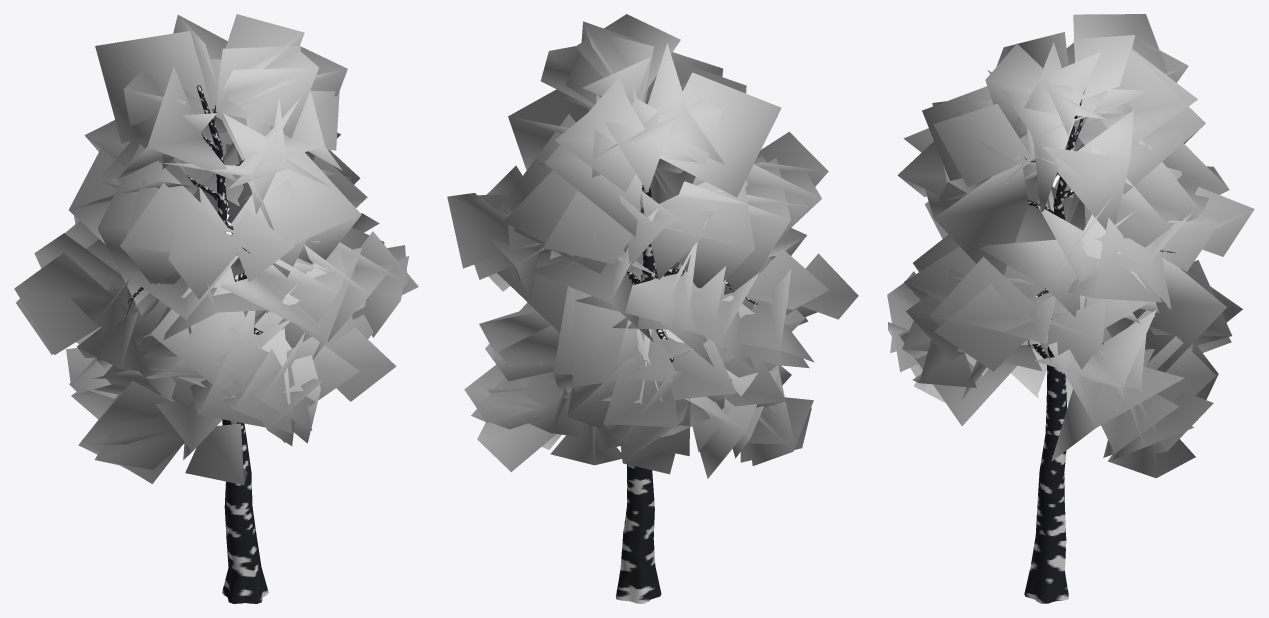
File: BirchTree_02.fbx
3 renders of one model, left to right at view 1: azimuth 30°, elevation 25°; view 2: azimuth 150°, elevation 25°; view 3: azimuth 270°, elevation 25°, orthographic. The views are drawn at different scales.
Visible parts, largest first — view 1: BirchTree_02; view 2: BirchTree_02; view 3: BirchTree_02.
Boxes of the visible parts, x1=… form: BirchTree_02: x1=14, y1=14, x2=418, y2=603; BirchTree_02: x1=447, y1=14, x2=858, y2=603; BirchTree_02: x1=887, y1=14, x2=1254, y2=603.
Bounding box in the file's own units: 4041 × 6583 × 3923.
